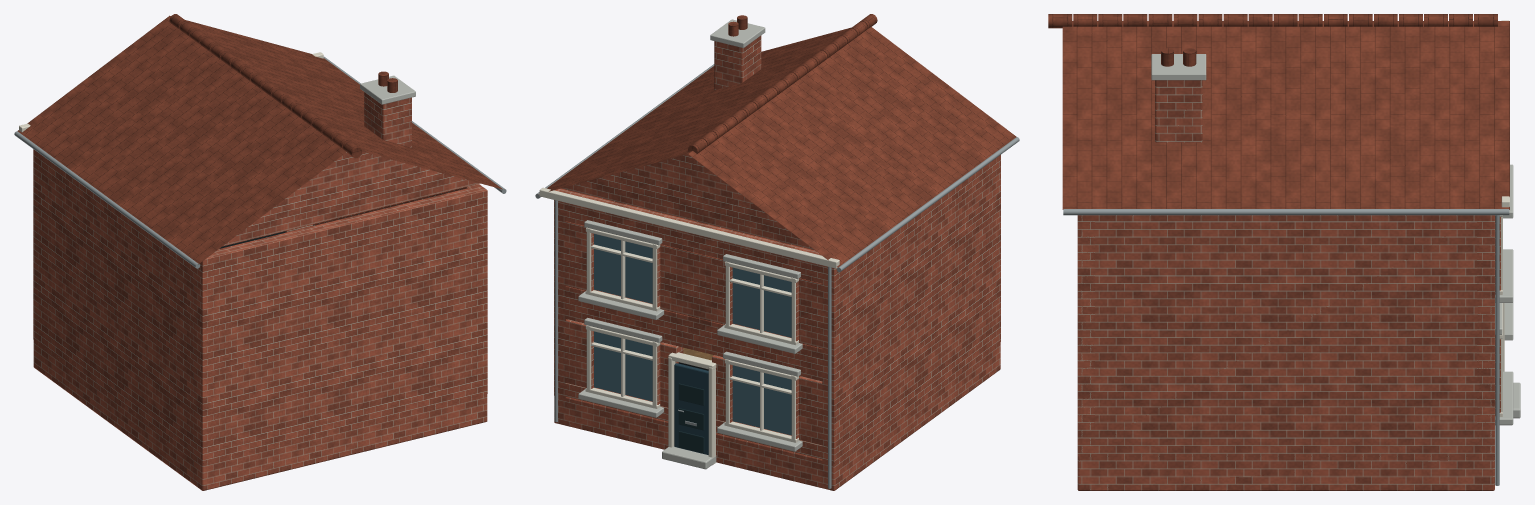
The model's file is dutch_terrace.glb.
The picture shows the model from 3 angles, left to right: view 1: azimuth 30°, elevation 25°; view 2: azimuth 150°, elevation 25°; view 3: azimuth 270°, elevation 25°; orthographic projection. The views are drawn at different scales.
Visible parts, largest first — view 1: Noorderkade red brick PBR, Clay roof tiles PBR, Weathered zinc metal, Cast concrete sills; view 2: Noorderkade red brick PBR, Clay roof tiles PBR, Painted timber frames, Window reflection, Cast concrete sills, Weathered zinc metal, Navy powder coating, Painted inset panels; view 3: Noorderkade red brick PBR, Clay roof tiles PBR, Weathered zinc metal, Cast concrete sills, Painted timber frames.
Part boxes in pixels (x1,y1,x2,y2): Noorderkade red brick PBR: [33, 92, 487, 490]; Clay roof tiles PBR: [17, 14, 502, 264]; Weathered zinc metal: [14, 56, 506, 268]; Cast concrete sills: [360, 75, 415, 104]; Noorderkade red brick PBR: [554, 35, 1000, 490]; Clay roof tiles PBR: [538, 14, 1016, 267]; Painted timber frames: [539, 187, 839, 465]; Window reflection: [594, 234, 791, 435]; Cast concrete sills: [578, 19, 802, 469]; Weathered zinc metal: [535, 64, 1019, 488]; Navy powder coating: [674, 363, 708, 454]; Painted inset panels: [678, 383, 704, 453]; Noorderkade red brick PBR: [1077, 80, 1500, 490]; Clay roof tiles PBR: [1048, 14, 1509, 209]; Weathered zinc metal: [1063, 209, 1509, 485]; Cast concrete sills: [1151, 54, 1520, 425]; Painted timber frames: [1499, 20, 1509, 416].
Bounding box in the file's own units: 7.41 × 7.5 × 7.92.
11 materials, 3 textured.
